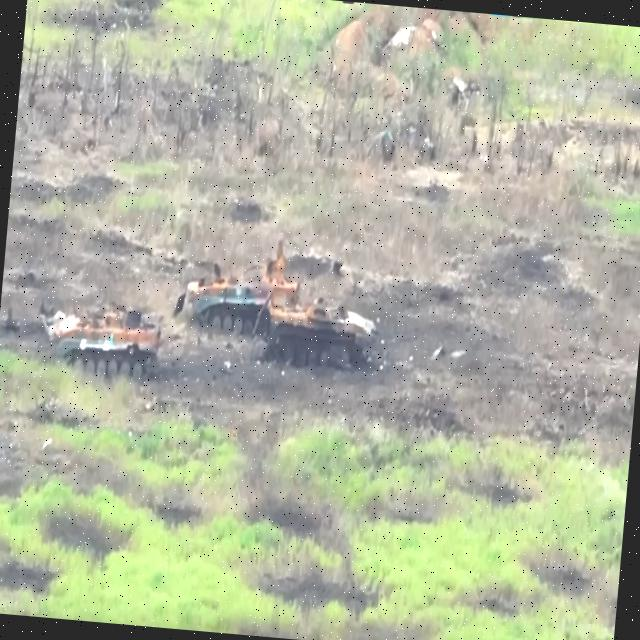Destroyed: (181, 247, 302, 337), (44, 294, 165, 379), (261, 290, 382, 374)
